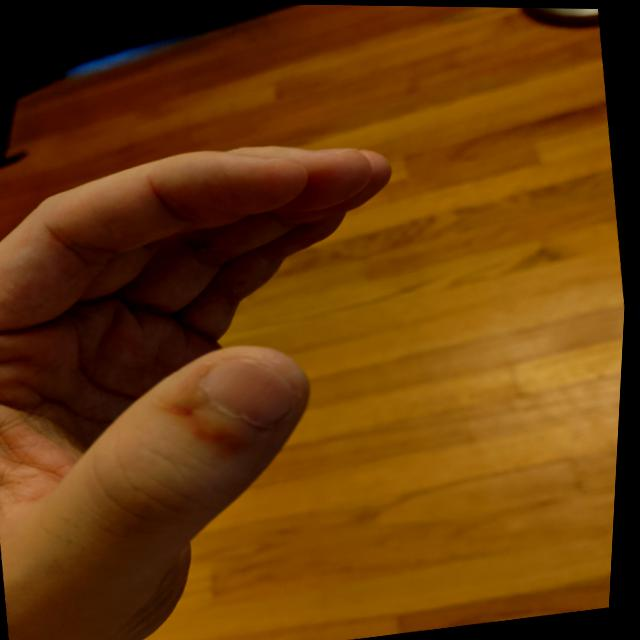C: (0, 113, 469, 639)
